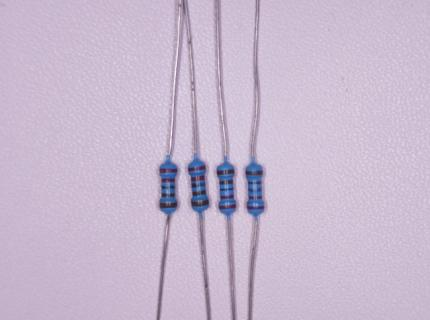Black band: (161, 185, 176, 190), (220, 187, 234, 192), (192, 183, 205, 188), (248, 188, 262, 192)
Brown band: (191, 199, 210, 207), (192, 189, 207, 197), (217, 169, 235, 175), (160, 203, 177, 208), (246, 170, 263, 175), (220, 179, 233, 185), (161, 193, 175, 198), (248, 181, 262, 185)
Red band: (188, 165, 206, 172), (219, 204, 236, 210), (191, 175, 205, 182), (159, 168, 177, 173), (247, 206, 265, 210), (220, 195, 234, 200), (248, 195, 262, 200), (161, 178, 175, 182)
